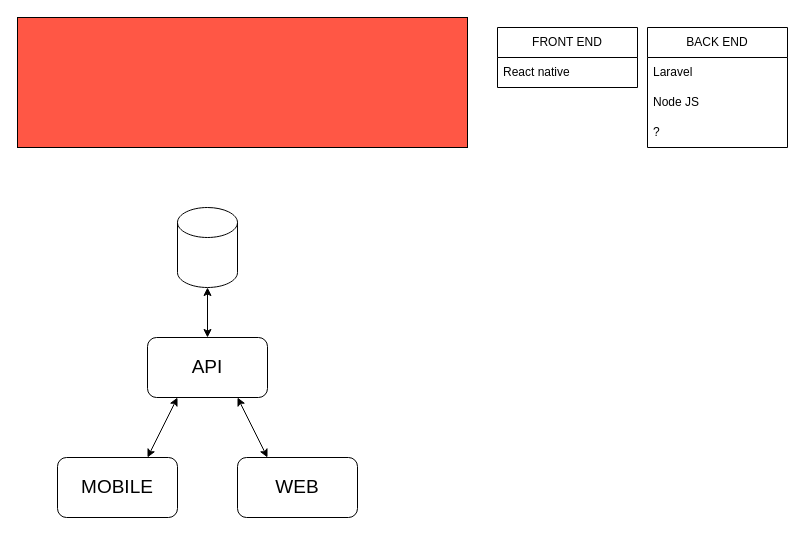
The diagram is 805 pixels wide and 535 high, and some of its shapes have lost their labels. Each missing label, with the centre of its shape:
"GGAME" belongs at (242,82).
"Mysql" belongs at (207,247).
